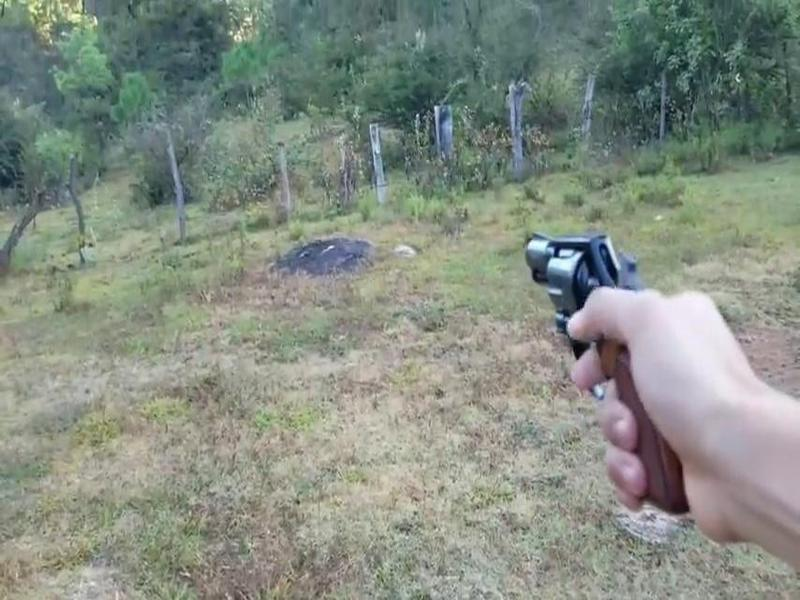Revolver: (522, 220, 712, 523)
